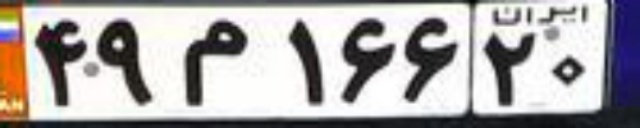0: (548, 53, 587, 86)
1: (284, 18, 324, 104)
2: (483, 31, 534, 105)
4: (35, 19, 85, 106)
6: (406, 16, 461, 103), (337, 16, 392, 102)
9: (96, 18, 156, 105)
mim: (178, 19, 245, 104)
